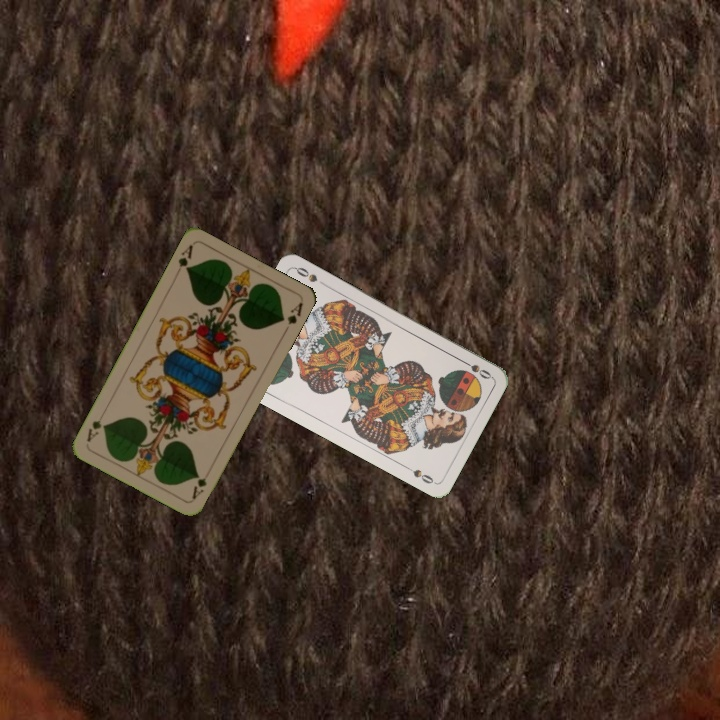GA: (188, 465, 214, 502), (174, 241, 196, 275)
SO: (456, 355, 494, 382)
